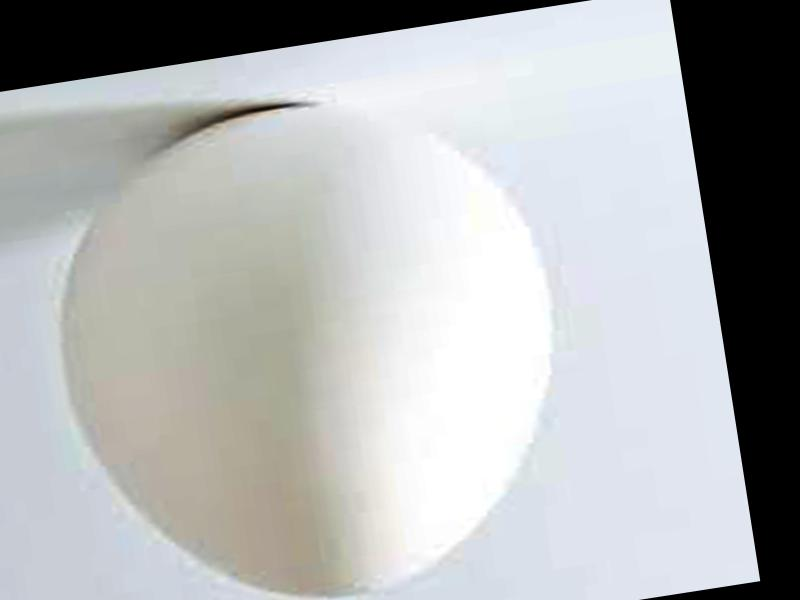Eggs: (34, 71, 588, 600)
